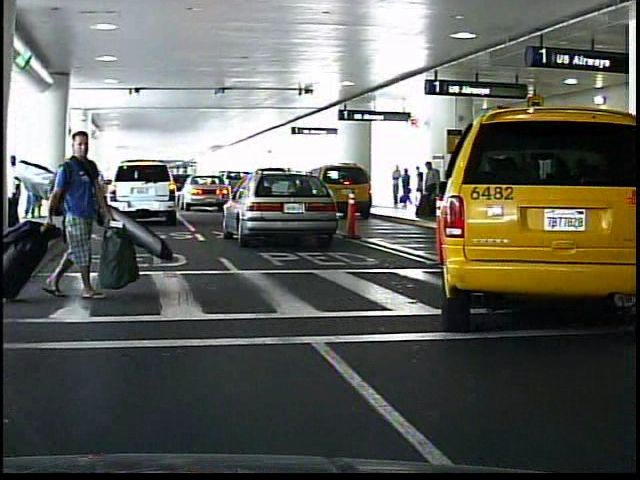person: (50, 120, 114, 314), (418, 160, 439, 218), (389, 165, 401, 208), (401, 166, 411, 208)
